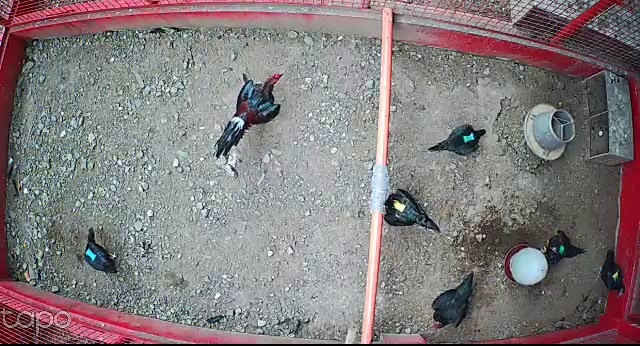Chicken: (429, 269, 478, 331), (378, 188, 440, 229), (428, 120, 486, 158), (590, 246, 630, 301), (78, 226, 121, 274), (536, 228, 588, 266)
Drinker: (503, 244, 551, 286)
Feeder: (522, 103, 575, 162)
Rooster: (211, 71, 288, 159)
Saddle_Color_Blue: (84, 247, 98, 261)
Saddle_Color_Yellow: (391, 199, 406, 213)
Saddle_Color_YellowGreen: (610, 270, 620, 284)
